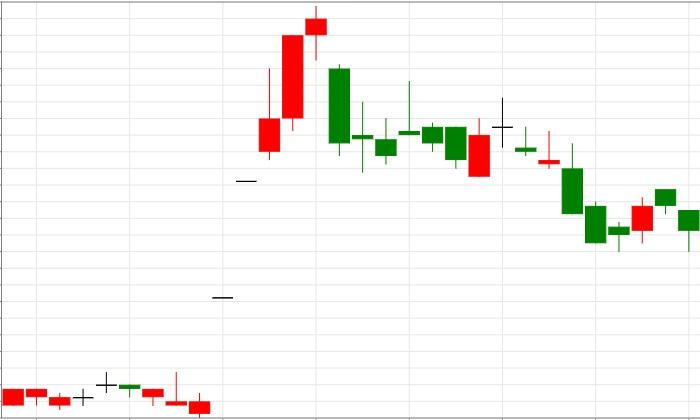evening_star_fall: (141, 4, 350, 417)
